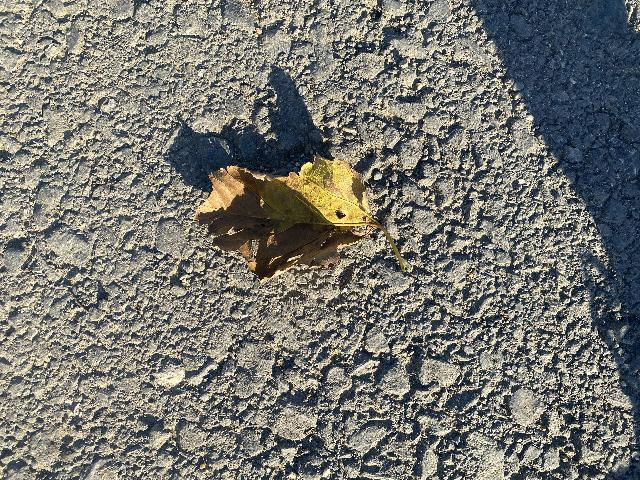Organik: (192, 148, 429, 284)
